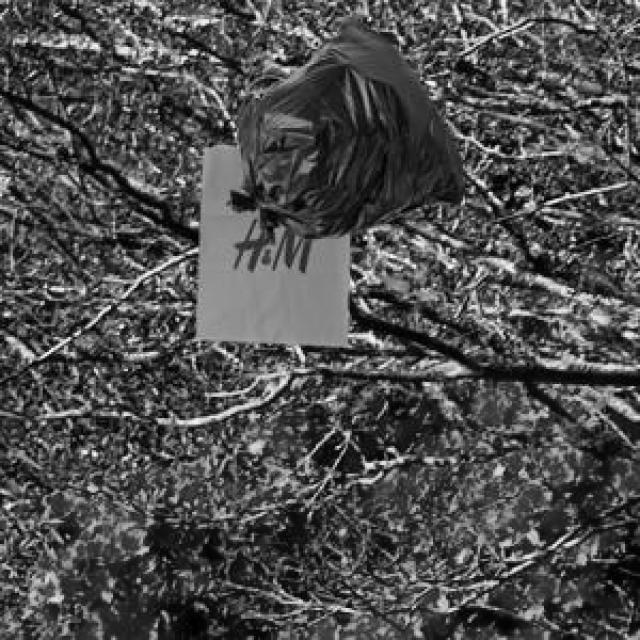miscellaneous trash: (222, 15, 463, 241)
paper: (192, 141, 346, 344)
